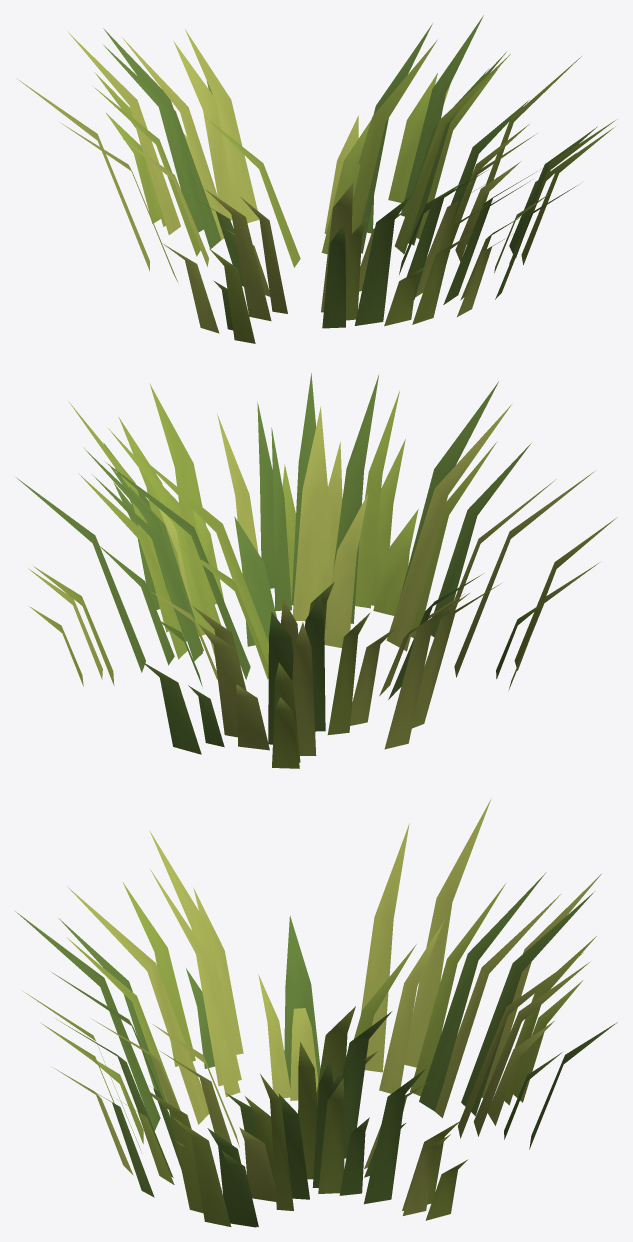
Rendered from Grass_A.glb.
The picture shows the model from 3 angles, top to bottom: view 1: azimuth 30°, elevation 25°; view 2: azimuth 150°, elevation 25°; view 3: azimuth 270°, elevation 25°; orthographic projection. The views are drawn at different scales.
Visible parts, largest first — view 1: Grass_A; view 2: Grass_A; view 3: Grass_A.
Boxes of the visible parts, x1,y1,x2,y2 form: Grass_A: (16,15,616,343); Grass_A: (14,373,617,768); Grass_A: (15,798,617,1227).
Size of the model in its own units: 1.33 by 0.5146 by 1.32.
Materials: 1 (1 with a texture image).
